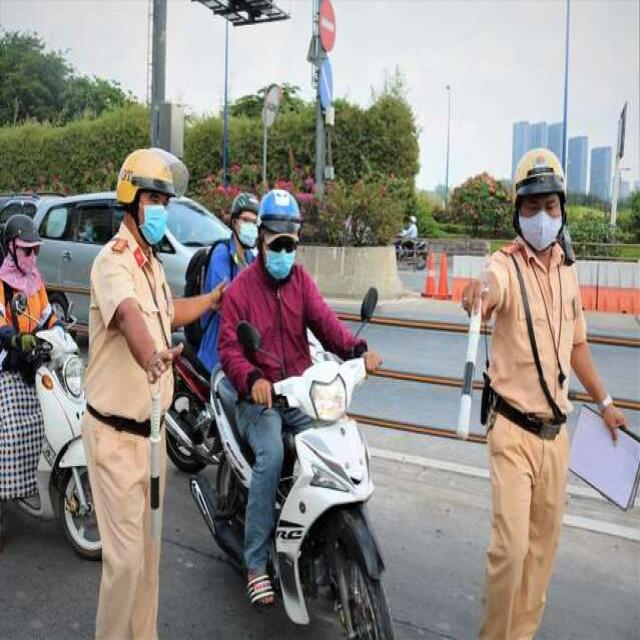1-2-helmet: (117, 148, 187, 203), (514, 148, 566, 205)
